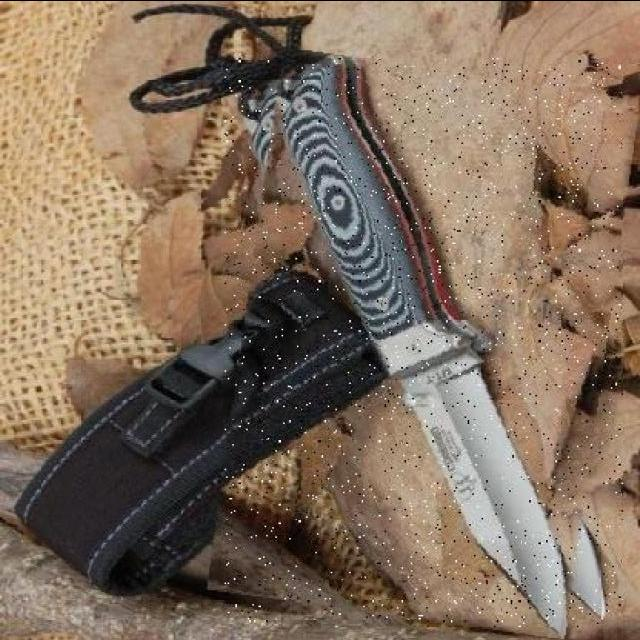Knife: (224, 57, 624, 626)
